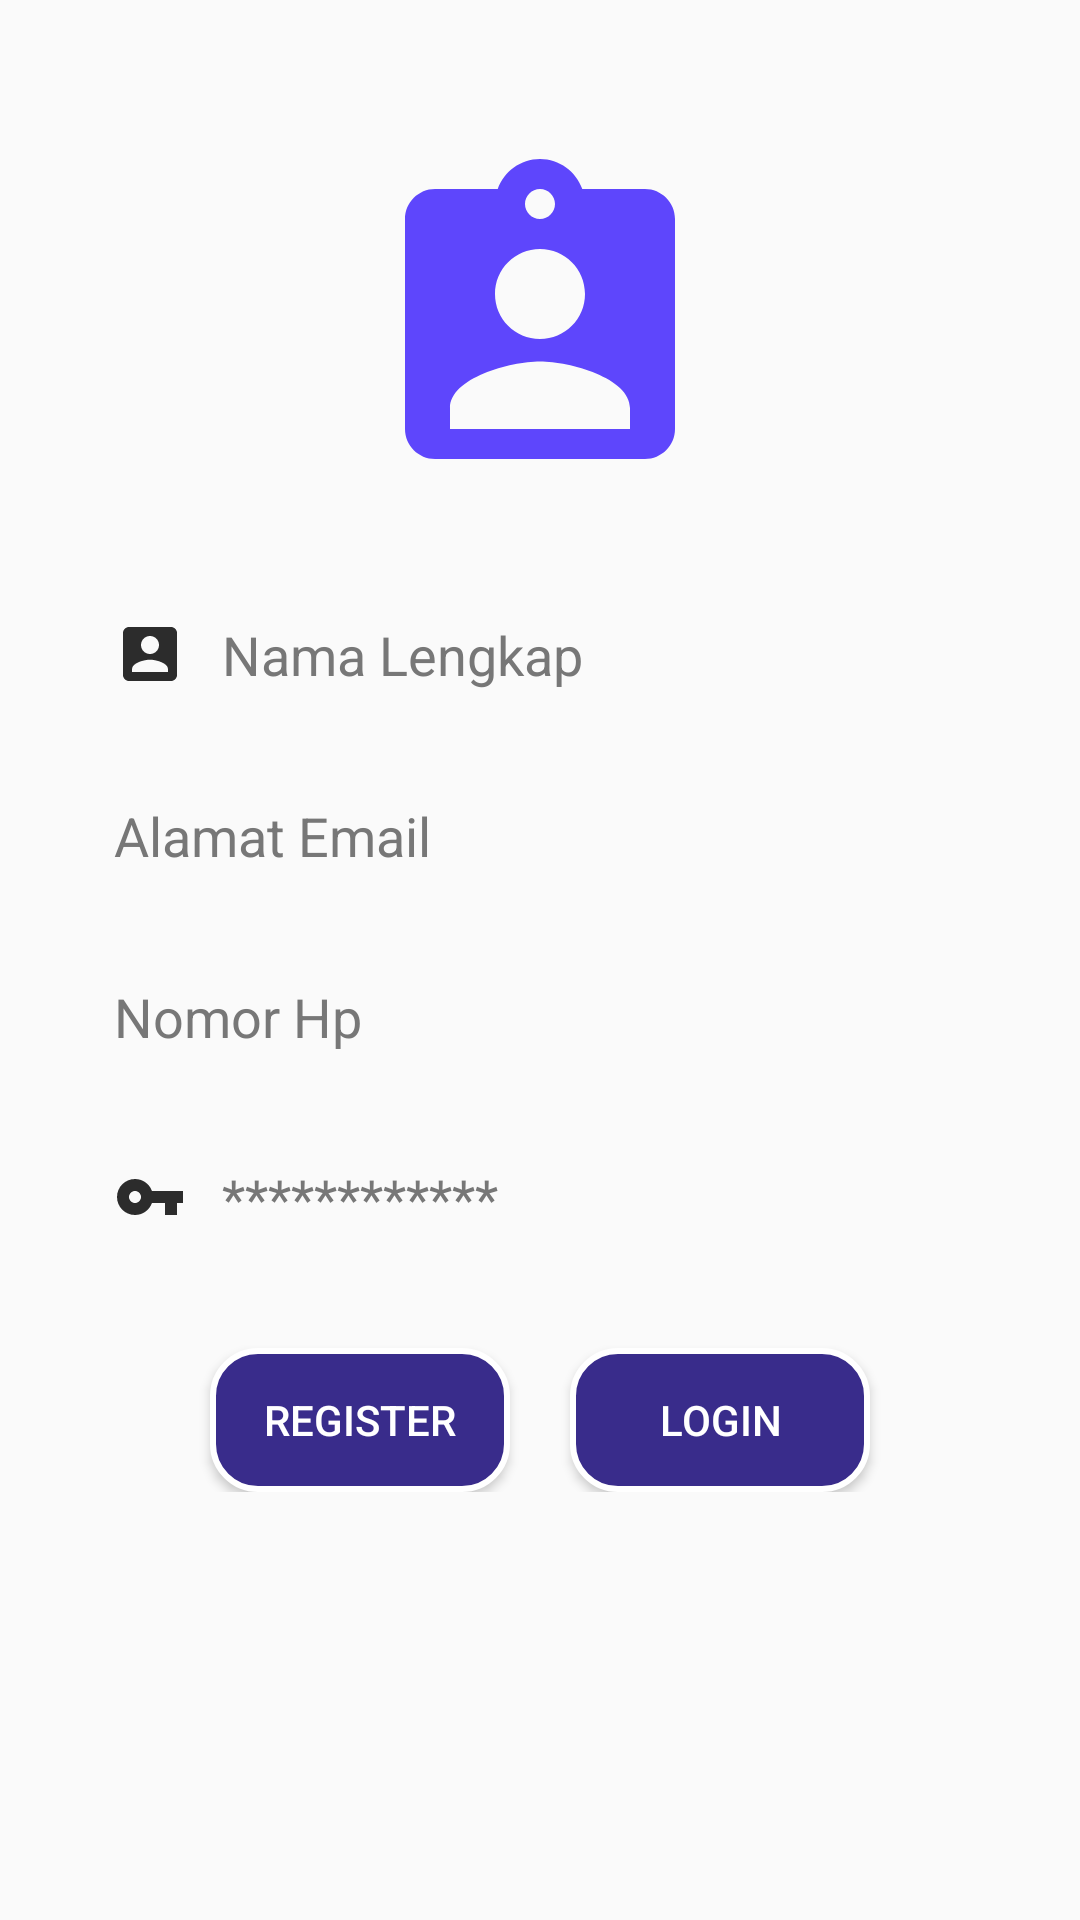

Screen size 1080px×1920px. Icon name, then its center in pixels as (x=x, y=y):
assignment ind: (x=540, y=309)
